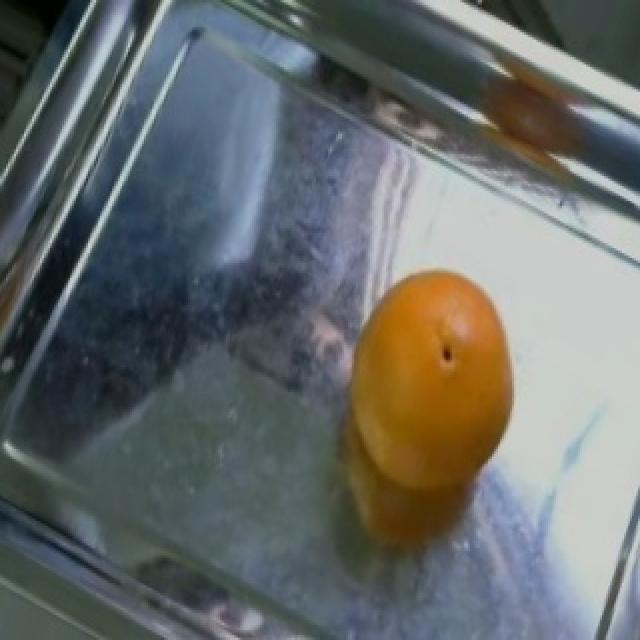Fruit: (316, 243, 538, 578)
